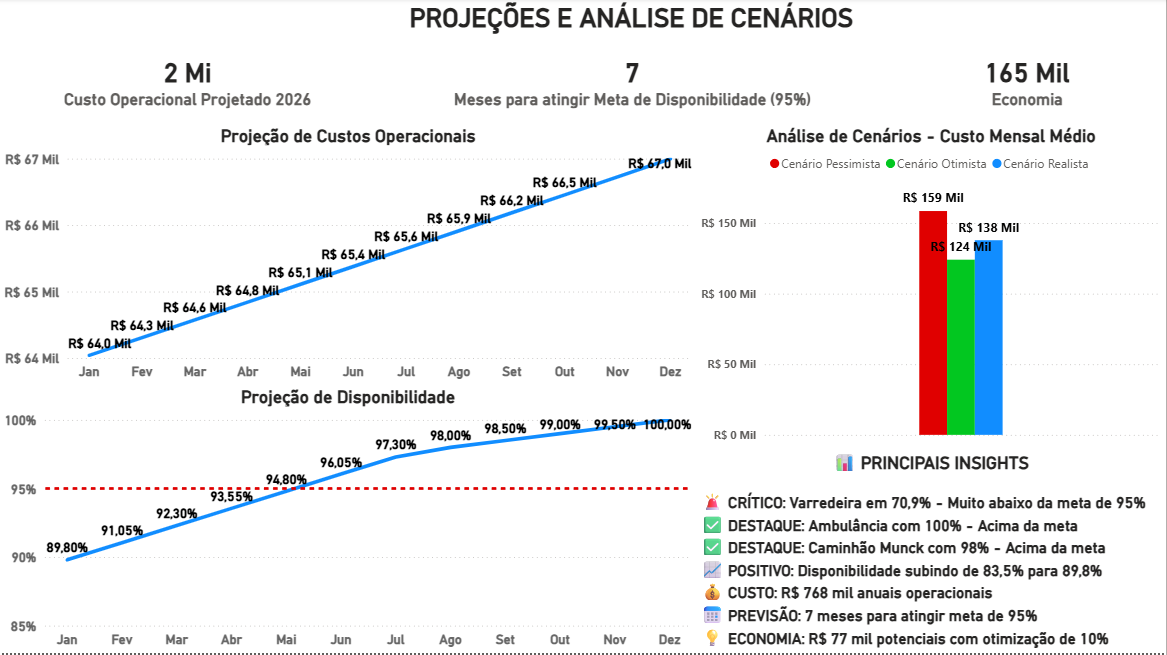

Layout of this report page (visuals, bound fields, positions):
{"tool":"powerbi","page":{"name":"Projeções e Cenários","canvas":[1280,720],"ordinal":3},"visuals":[{"type":"textbox","box":[444.4,0,498.9,46.1],"z":0},{"type":"cardVisual","fields":{"Data":["_Medidas.Projecao_Custo_2027"]},"box":[0,46.5,412.8,93.1],"z":1000},{"type":"cardVisual","fields":{"Data":["_Medidas.Meses_Para_Meta"]},"box":[412.8,46.5,562.9,93.1],"z":2000},{"type":"cardVisual","fields":{"Data":["_Medidas.Economia"]},"box":[975.6,46.5,304.7,93.1],"z":3000},{"type":"areaChart","title":"Projeção de Disponibilidade","fields":{"Y":["Sum(Projecao_2026.Disponibilidade)"],"Category":["Projecao_2026.Mês"]},"box":[0,426.2,764.4,293.4],"z":4000},{"type":"areaChart","title":"Projeção de Custos Operacionais","fields":{"Y":["Sum(Projecao_2026.Custo)"],"Category":["Projecao_2026.Mês"]},"box":[0,139.7,764.4,286.5],"z":5000},{"type":"clusteredColumnChart","title":"Análise de Cenários - Custo Mensal Médio","fields":{"Y":["_Medidas.Cenario_Pessimista","_Medidas.Cenario_Otimista","_Medidas.Cenario_Realista"]},"box":[764.4,139.7,515.6,353.5],"z":6000},{"type":"textbox","box":[764.4,493.3,515.6,227.8],"z":7000}]}

Visuals, with their boxes in screenshot pixels (x1, y1, x2, y2), scaled from the page's 1280x720 canvas onto the 1167x655 screenshot:
textbox: x1=405 y1=0 x2=860 y2=42
cardVisual - _Medidas.Projecao_Custo_2027: x1=0 y1=42 x2=376 y2=127
cardVisual - _Medidas.Meses_Para_Meta: x1=376 y1=42 x2=890 y2=127
cardVisual - _Medidas.Economia: x1=889 y1=42 x2=1166 y2=127
"Projeção de Disponibilidade" areaChart: x1=0 y1=388 x2=697 y2=654
"Projeção de Custos Operacionais" areaChart: x1=0 y1=127 x2=697 y2=388
"Análise de Cenários - Custo Mensal Médio" clusteredColumnChart: x1=697 y1=127 x2=1166 y2=449
textbox: x1=697 y1=449 x2=1166 y2=654
